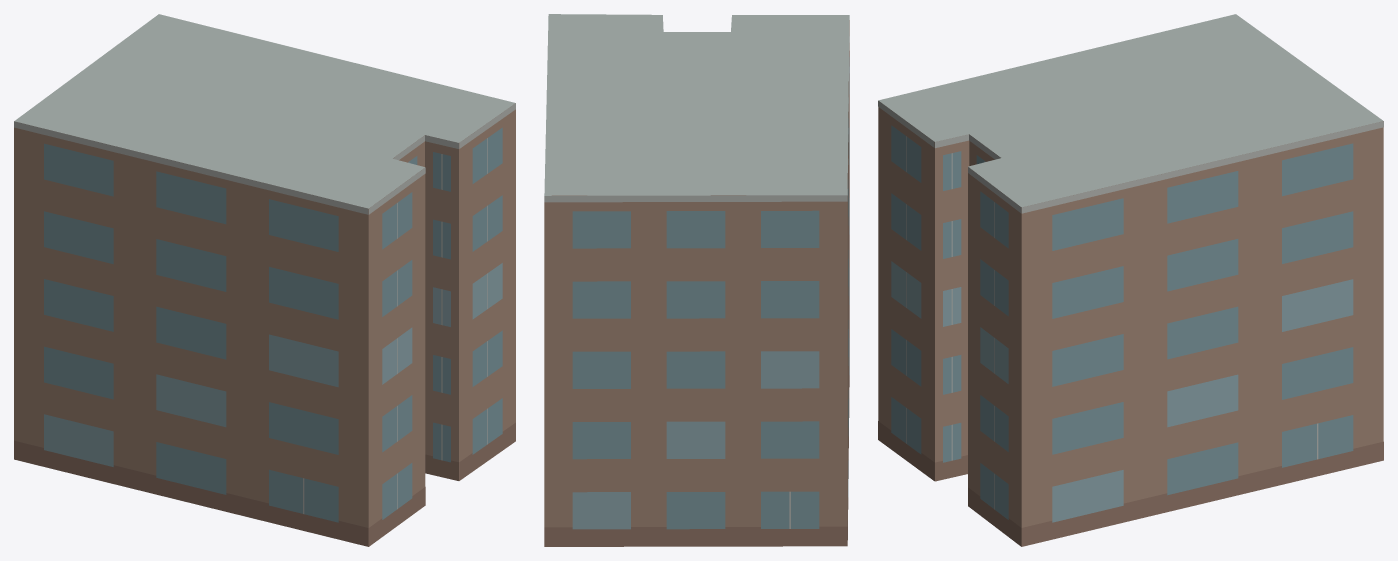
File: survey-upis-32714514.glb
The picture shows the model from 3 angles, left to right: view 1: azimuth 30°, elevation 25°; view 2: azimuth 150°, elevation 25°; view 3: azimuth 270°, elevation 25°; orthographic projection. The views are drawn at different scales.
Visible parts, largest first — view 1: survey-upis-32714514.tmp; view 2: survey-upis-32714514.tmp; view 3: survey-upis-32714514.tmp.
Part boxes in pixels (x1,y1,x2,y2): survey-upis-32714514.tmp: (14,14,515,546); survey-upis-32714514.tmp: (544,14,849,546); survey-upis-32714514.tmp: (878,14,1383,546).
Size of the model in its own units: 16.08 by 13.15 by 17.76.
